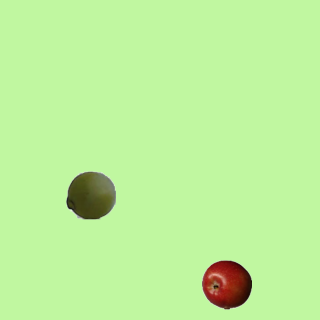Apple Braeburn: (201, 259, 251, 309)
Grape White 4: (65, 169, 115, 219)
